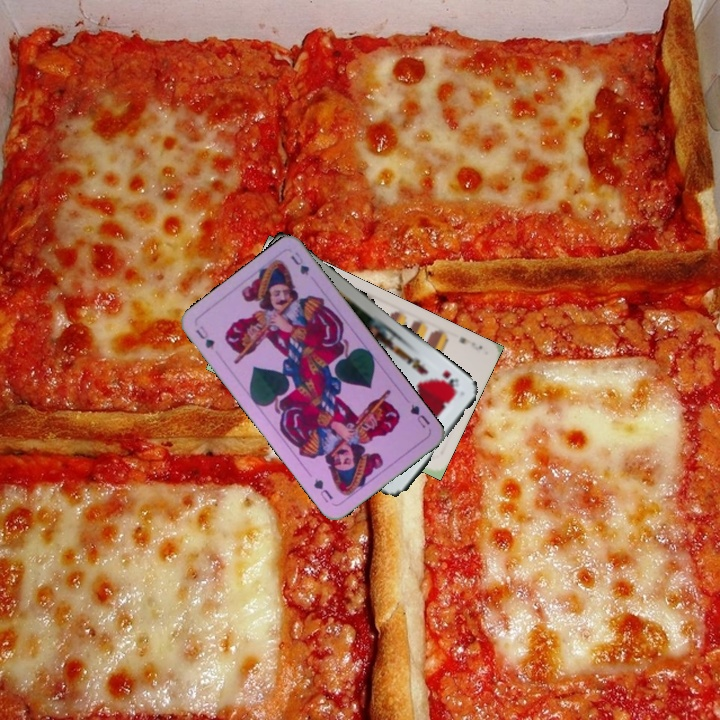E7: (455, 333, 485, 353)
GU: (406, 400, 432, 431), (191, 321, 217, 352)
HK: (438, 367, 461, 394)
